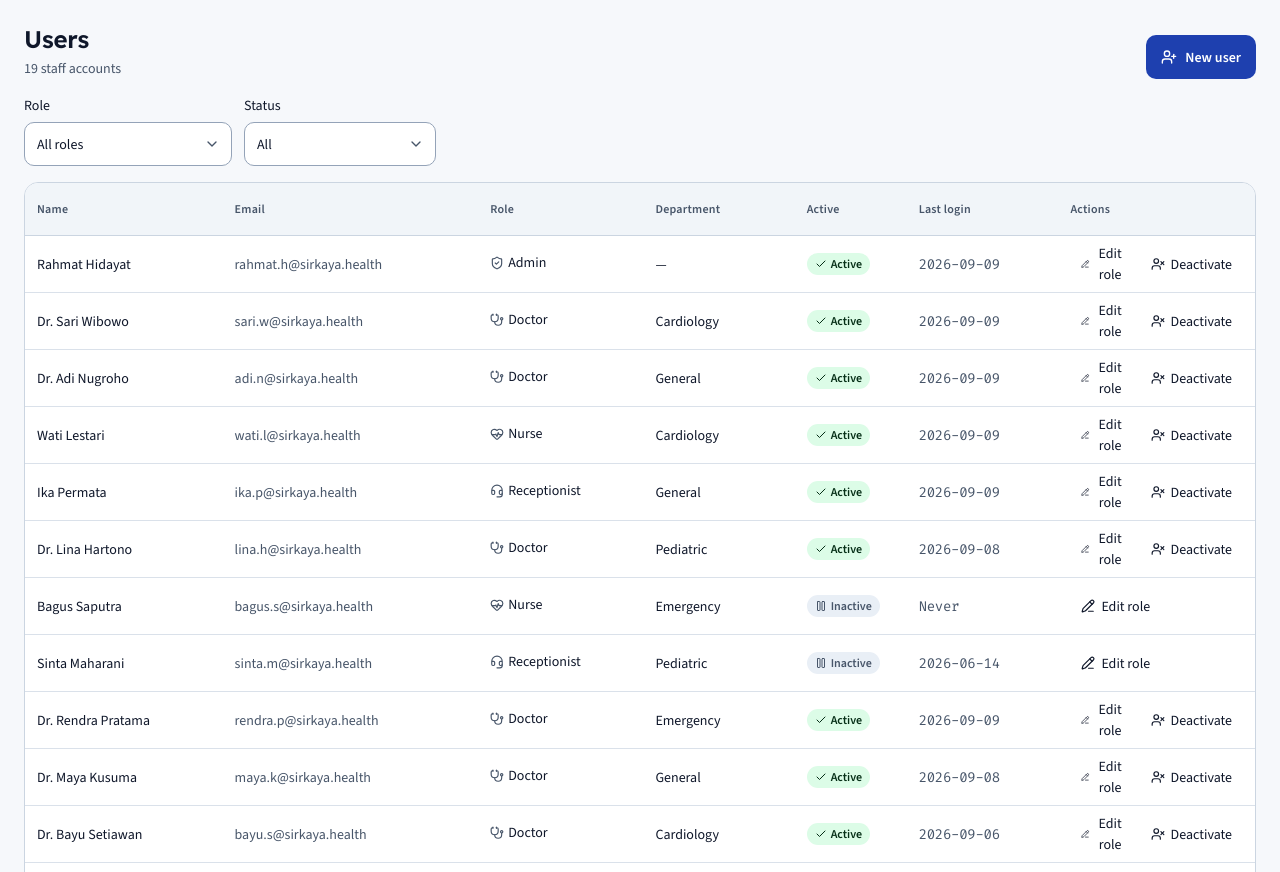
Test: UsersPage (#8) › opens the new-user modal
Step 1. Click the button "New user" → (1201, 57), box [1146,35,1256,79]
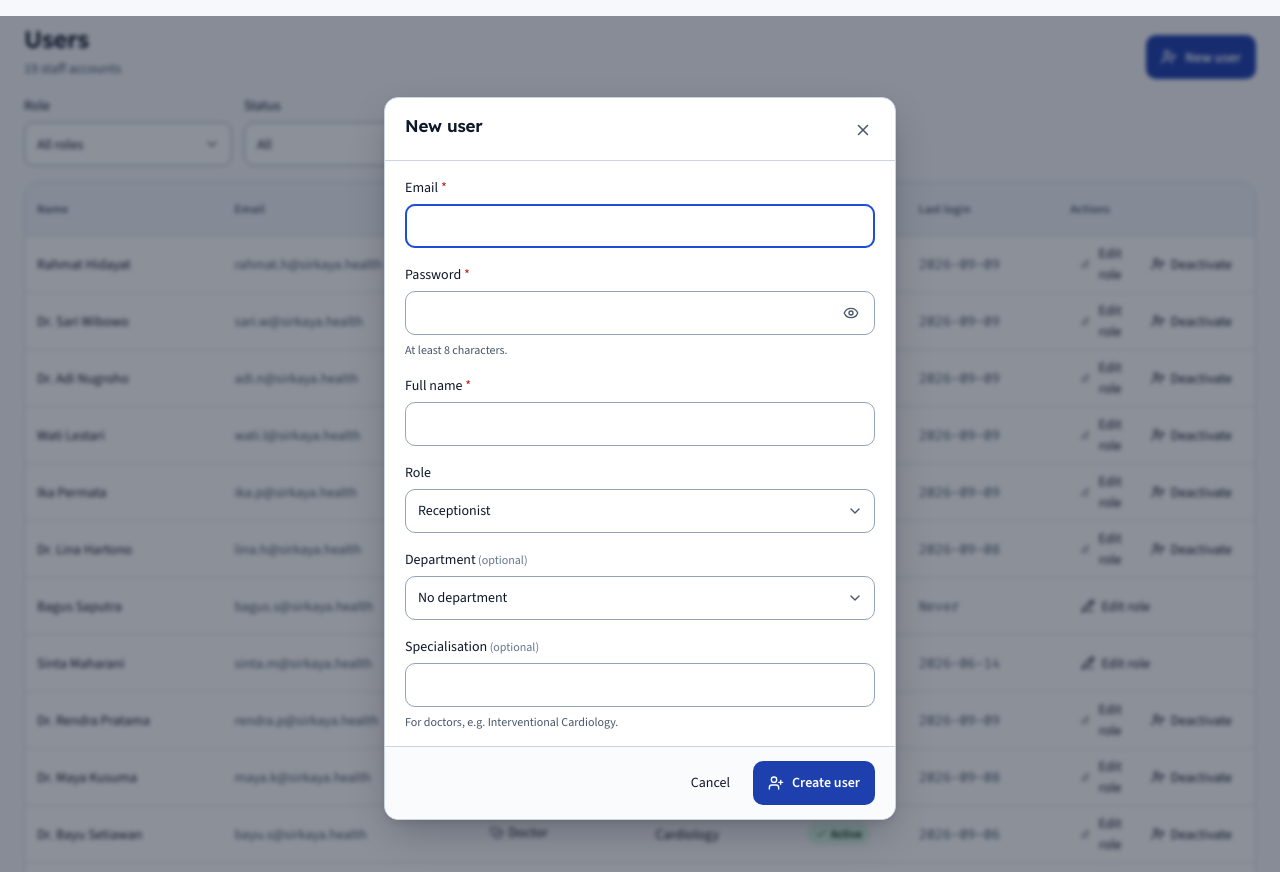
Expected: the field labelled "Email *" is shown, [405,204,875,248]
Expected: the password field labelled "Password *" is shown, [405,290,875,334]
Expected: the field labelled "Full name *" is shown, [405,402,875,446]
